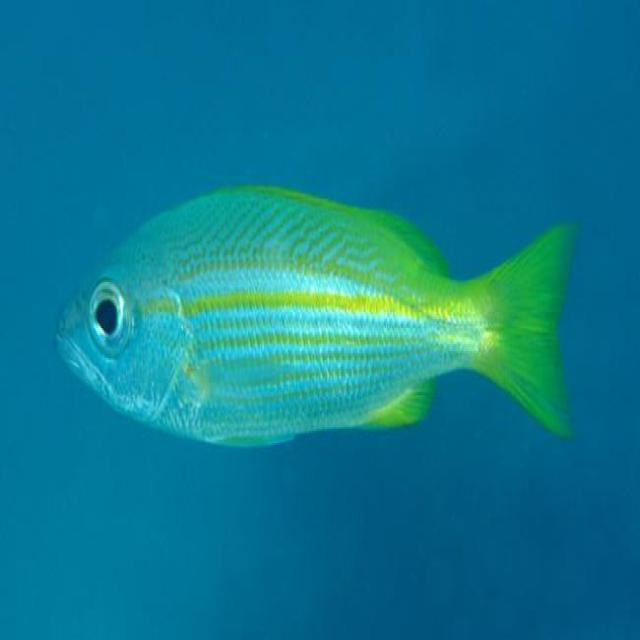ikan: (53, 179, 579, 449)
